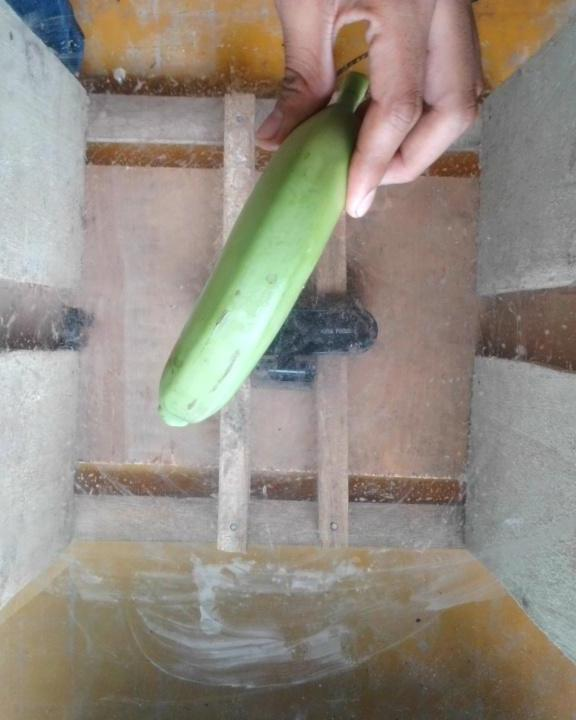CLASS B: (152, 64, 366, 444)
Class A: (194, 303, 237, 361)
